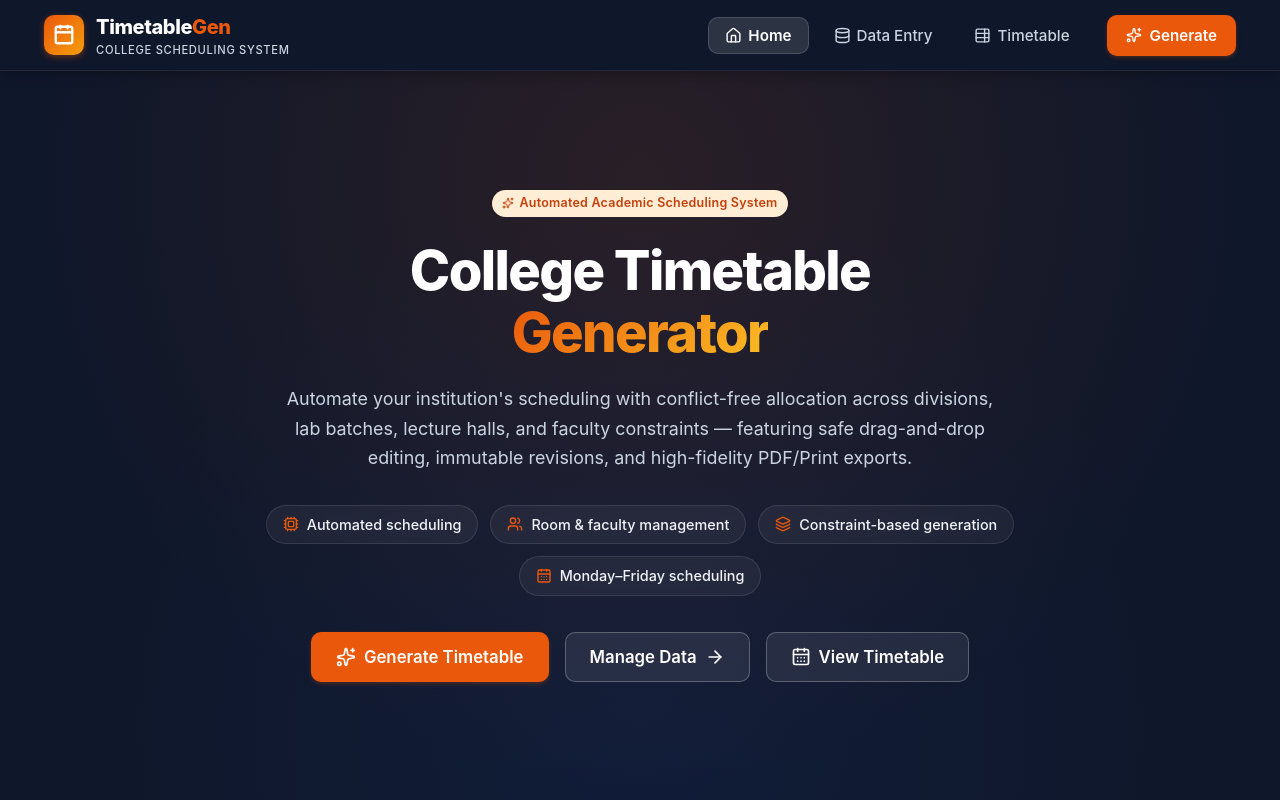
Test: App Phase 2 Foundation & Navigation › 4. Navigates to Timetable page displaying RedesignedViewer
The image size is (1280, 800).
Click the button with test id "nav-timetable". click: coordinates (1022, 35)
box: [957,16,1087,54]
(page scrolled)
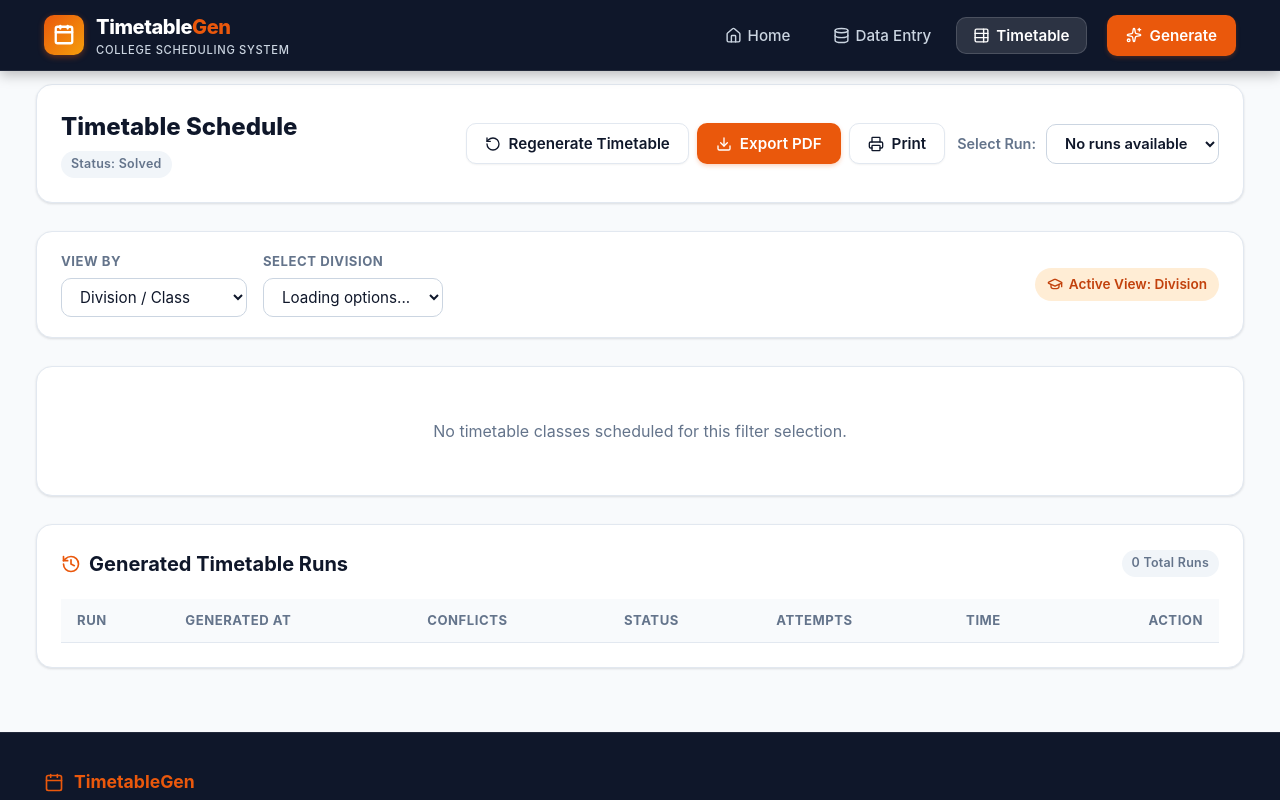
Check: the element with test id "redesigned-timetable-viewer" is shown
